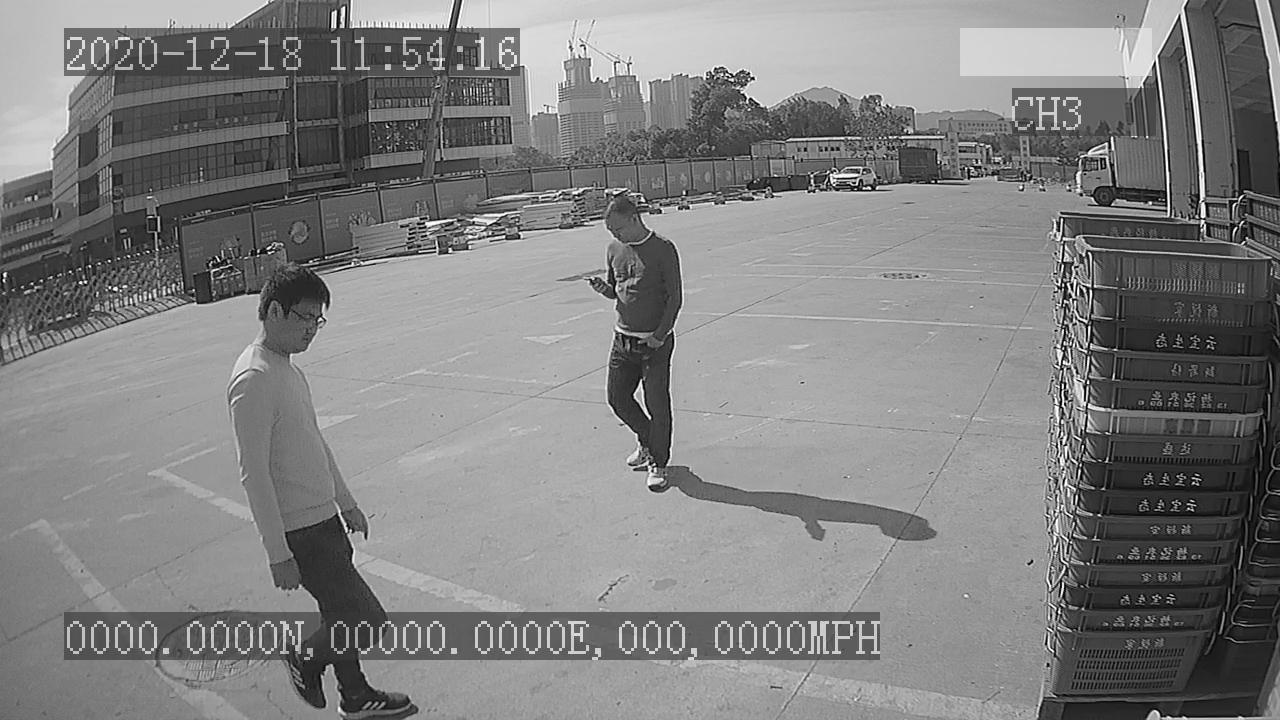person: (577, 186, 699, 504)
